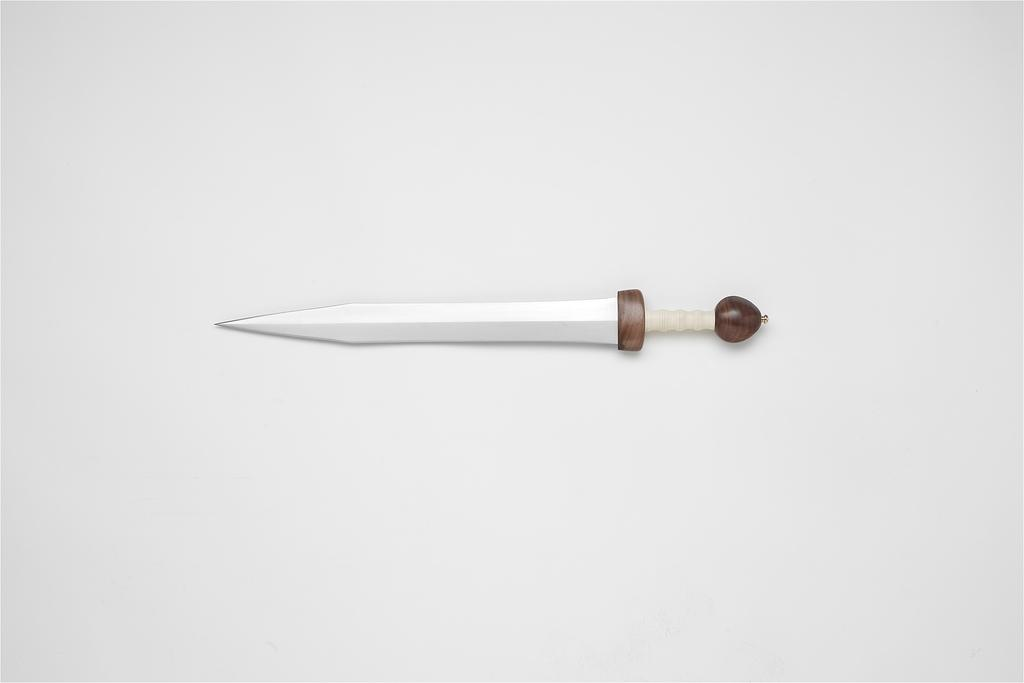Knife: (215, 284, 772, 350)
